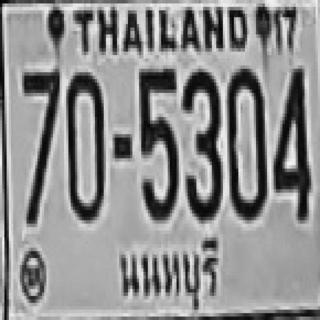N00: (225, 65, 265, 217), (64, 69, 104, 220)
N03: (181, 69, 221, 217)
N04: (272, 65, 309, 217)
N05: (137, 65, 177, 217)
N07: (21, 67, 58, 222), (21, 67, 58, 177)
P37: (115, 234, 222, 318)
